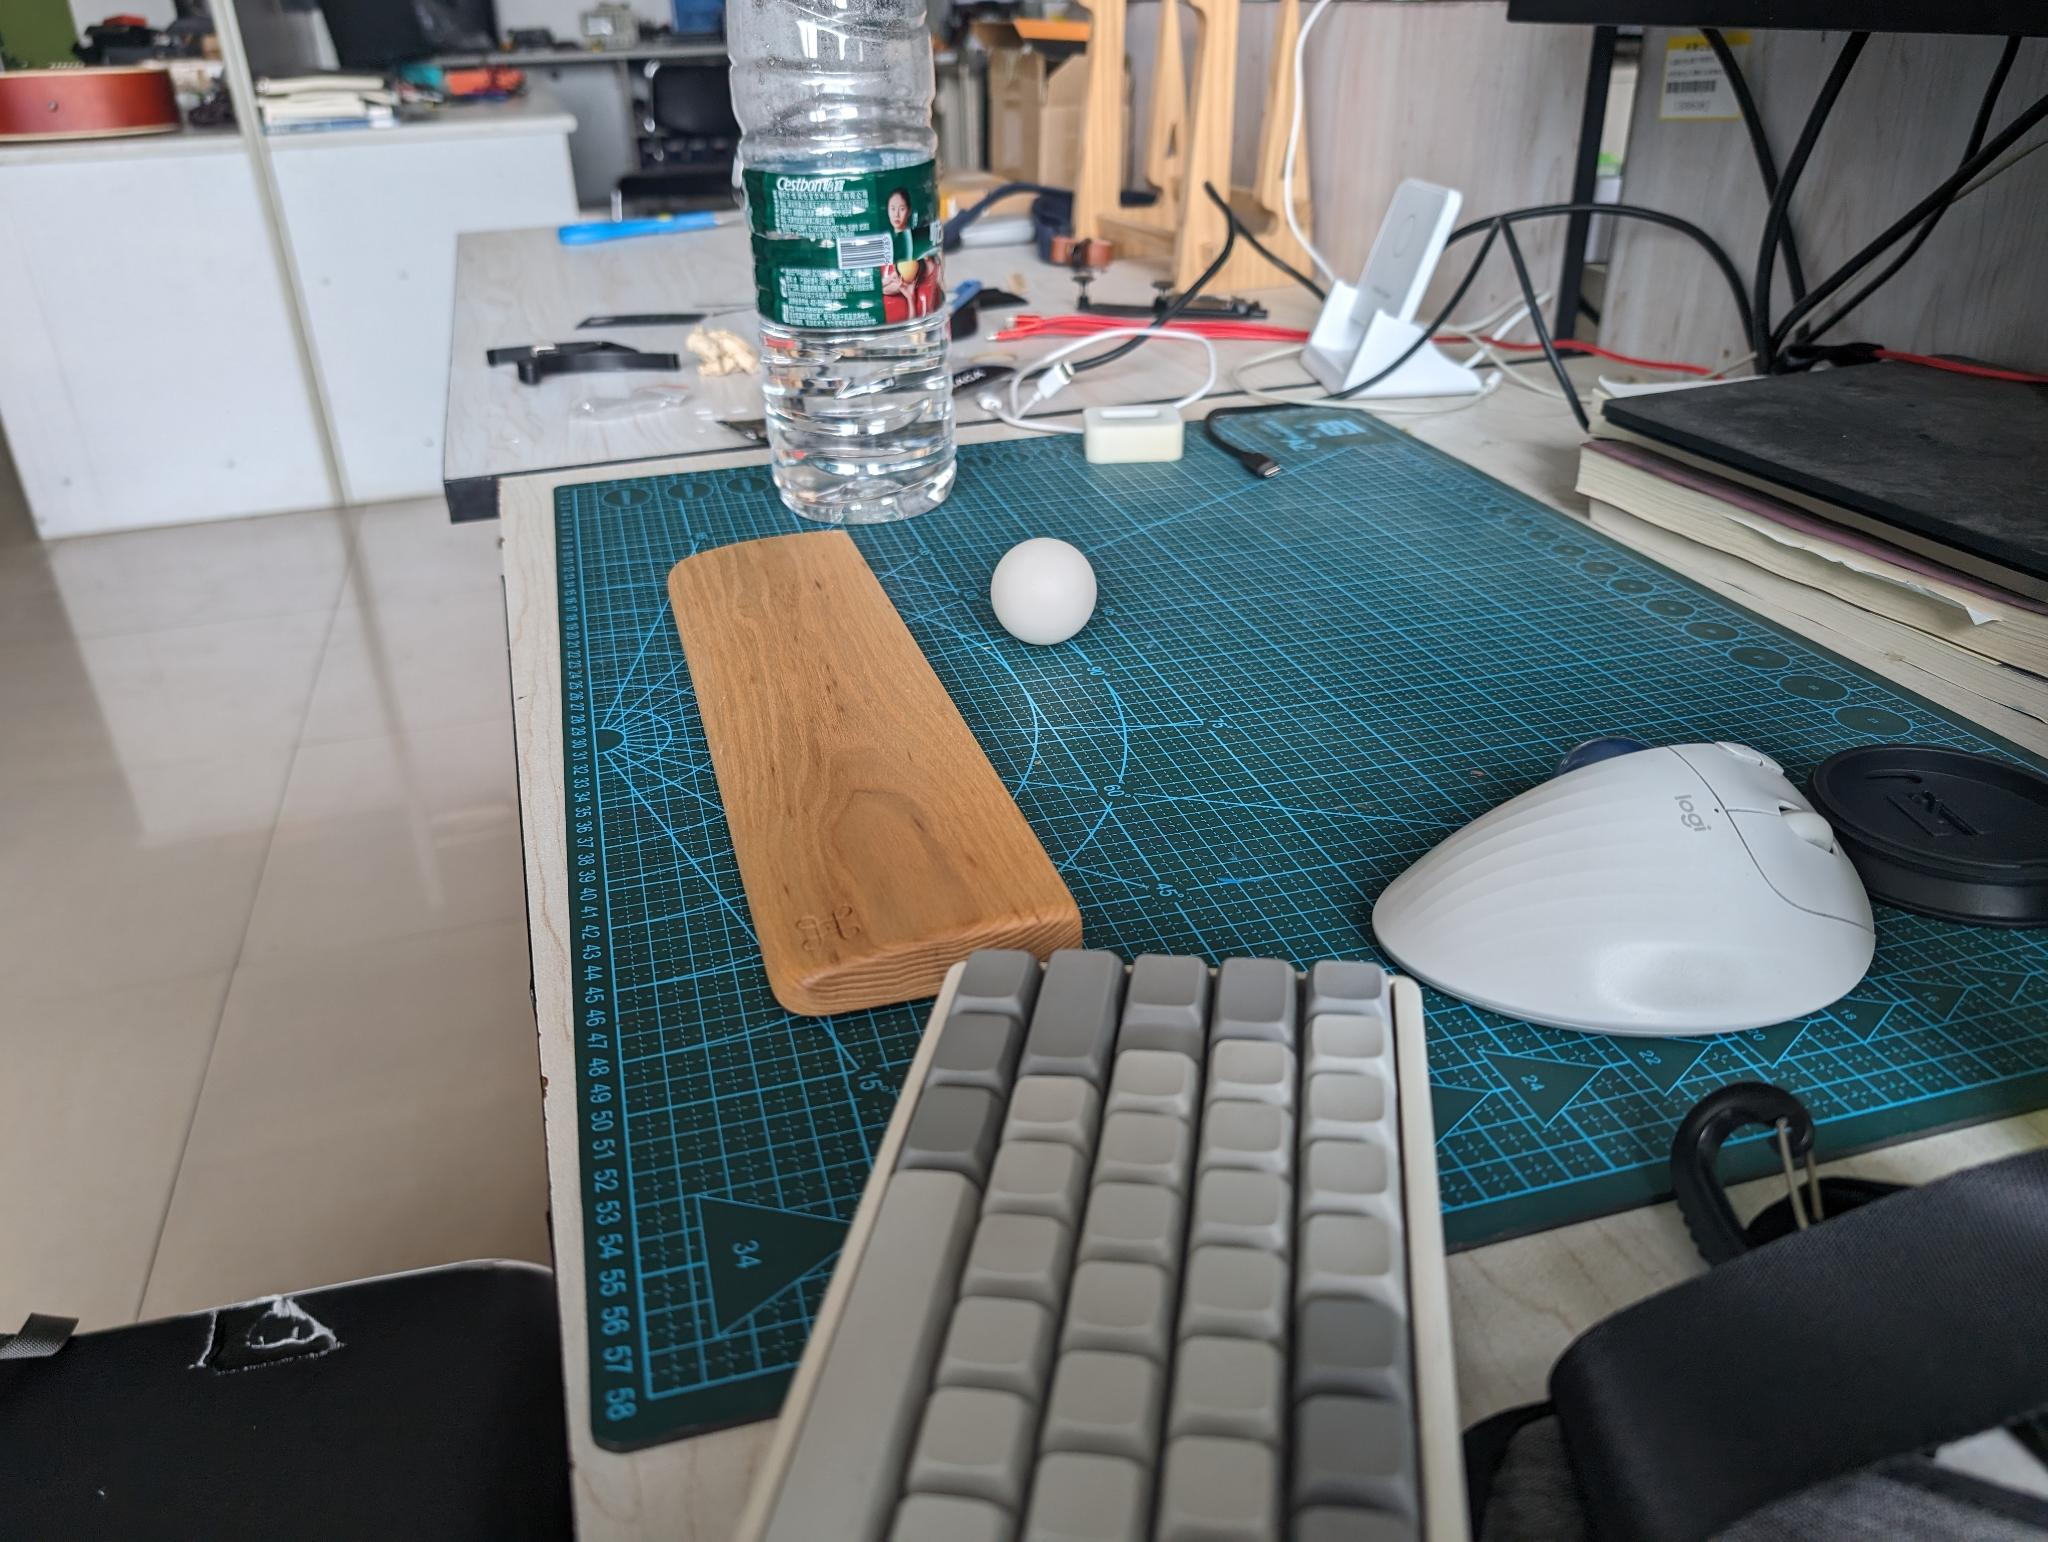ball: (989, 533, 1098, 643)
